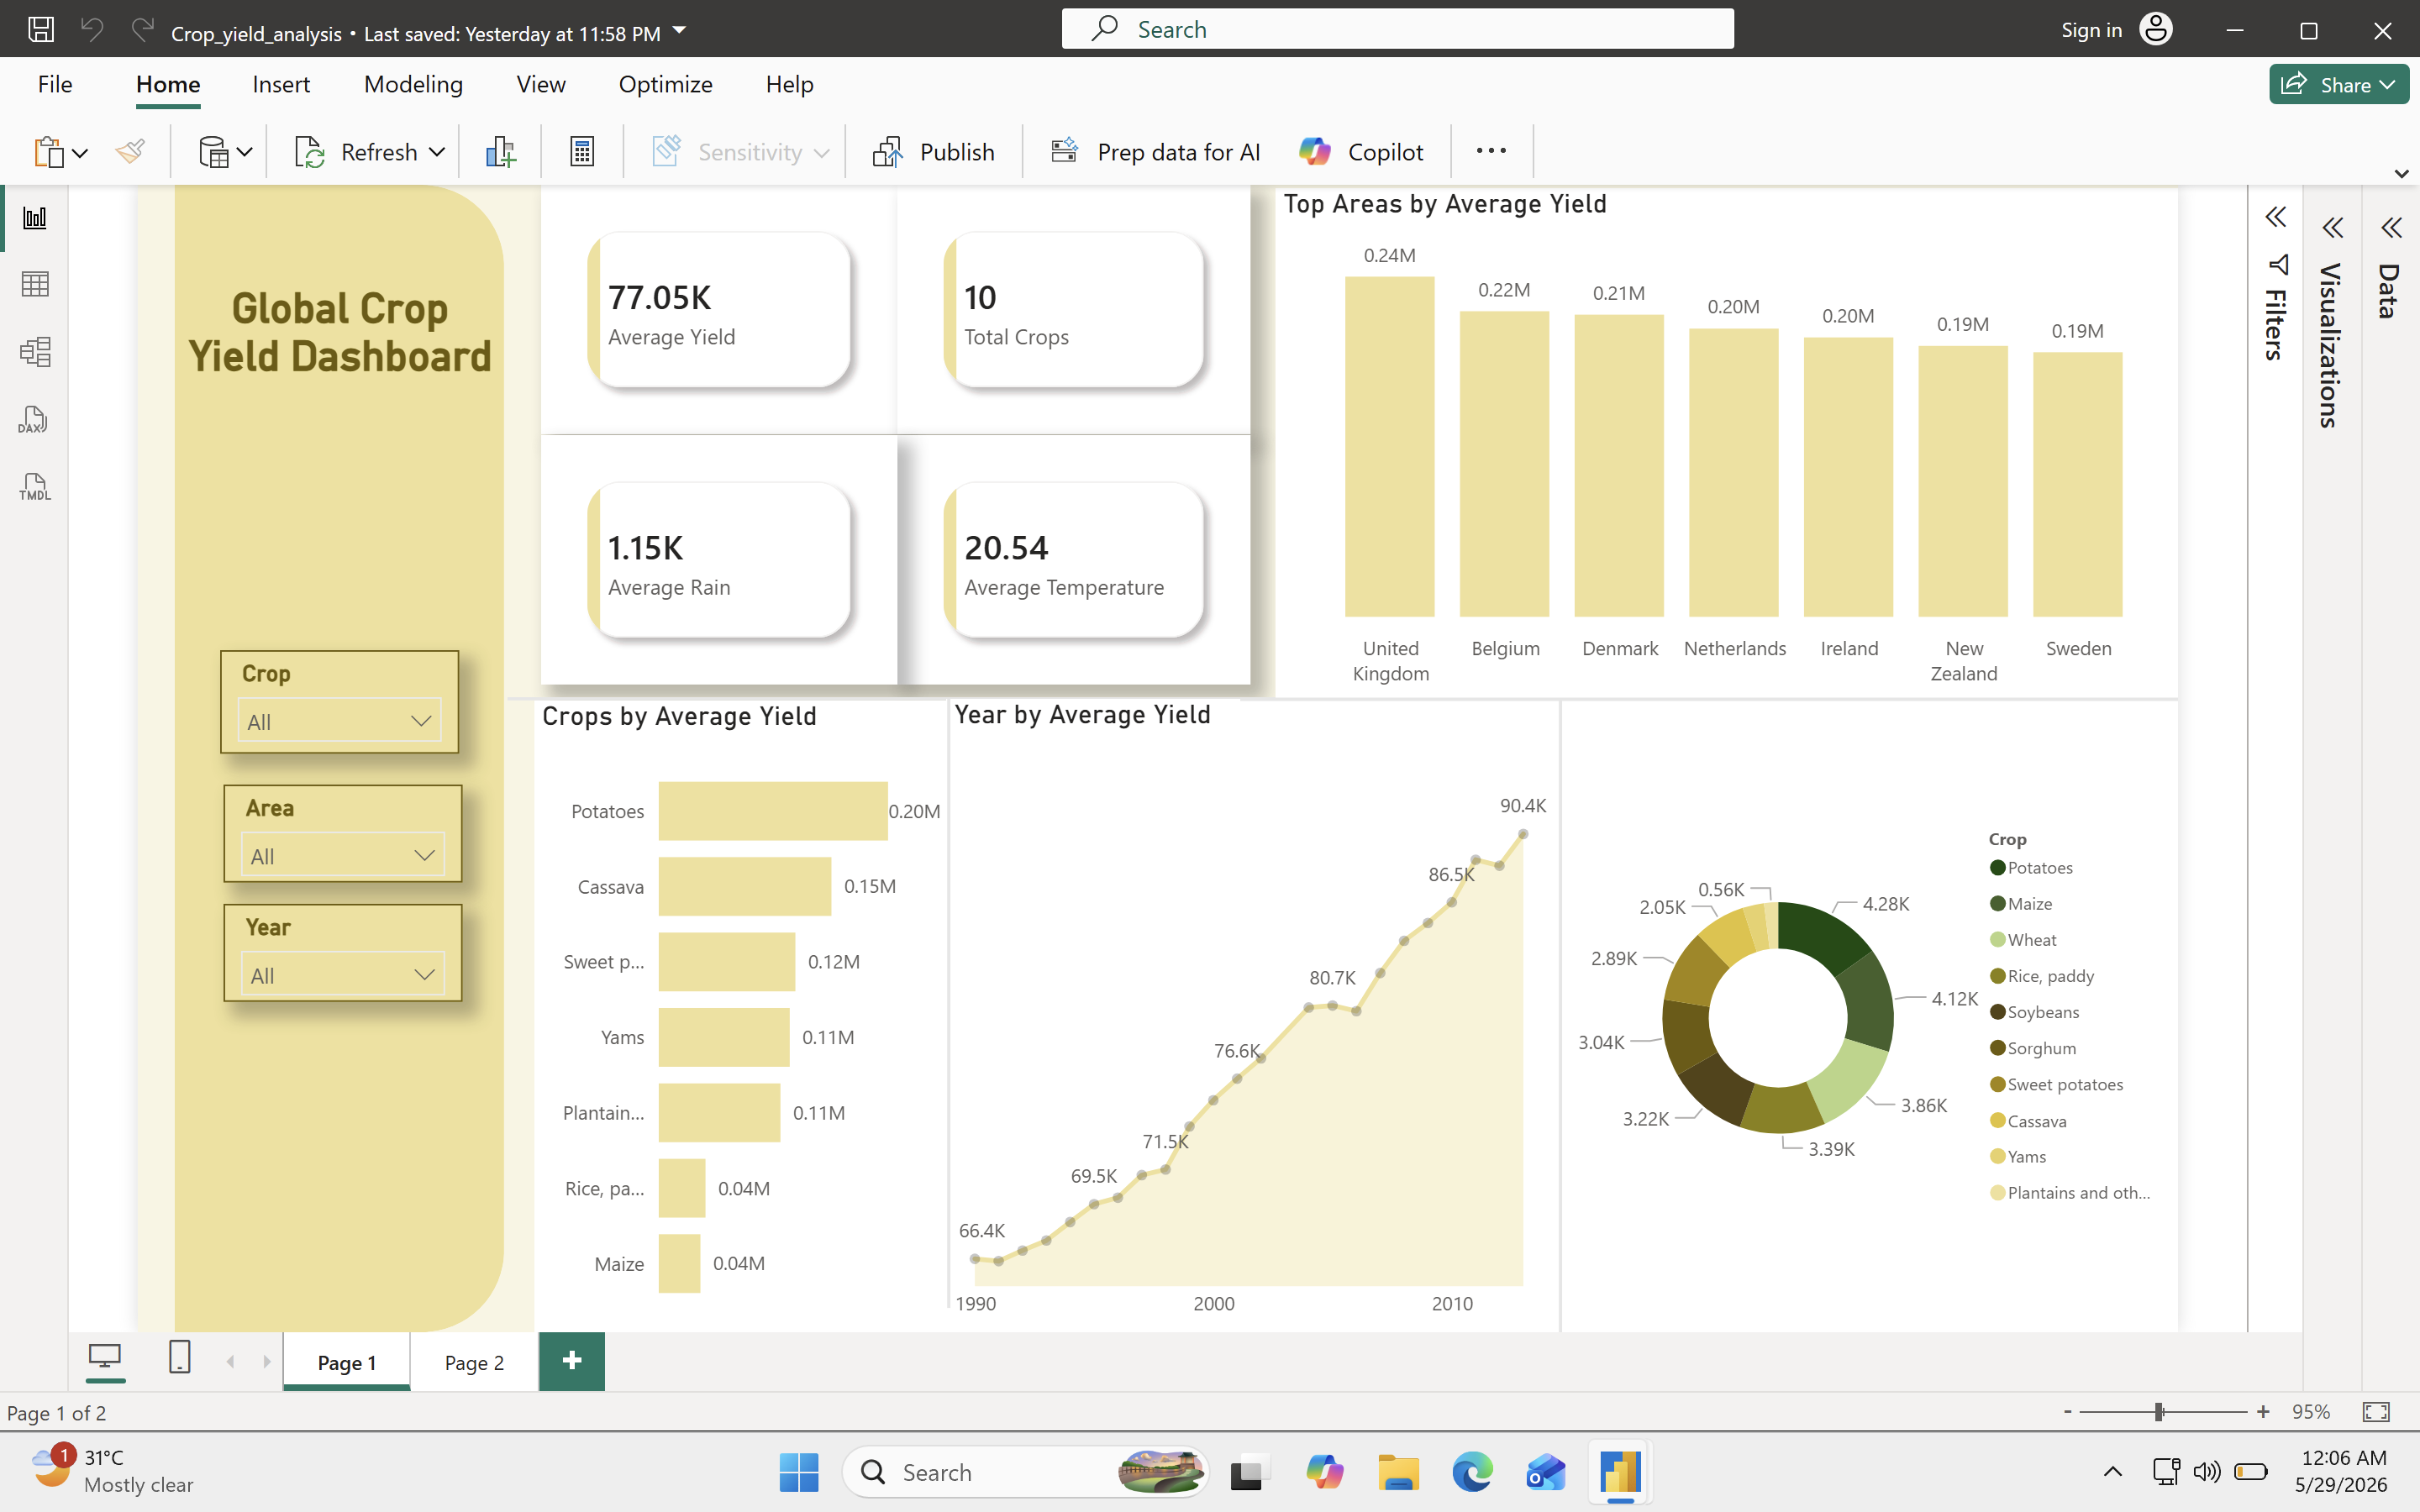

This screenshot's page, from the dashboard's own definition file:
{"tool":"powerbi","page":{"name":"Page 1","canvas":[1280,720],"ordinal":0},"visuals":[{"type":"cardVisual","fields":{"Data":["crop_cleaned.avg_yield"]},"box":[253.3,0,223.3,156.7],"z":0},{"type":"cardVisual","fields":{"Data":["crop_cleaned.TOTAL CROPS"]},"box":[476.7,0,221.7,156.7],"z":1000},{"type":"cardVisual","fields":{"Data":["crop_cleaned.AVG TEMP"]},"box":[476.7,156.7,221.7,156.7],"z":2000},{"type":"cardVisual","fields":{"Data":["crop_cleaned.AVG RAIN"]},"box":[253.3,156.7,223.3,156.7],"z":3000},{"type":"clusteredBarChart","title":"Crops by Average Yield","fields":{"Category":["crop_cleaned.Crop"],"Y":["Avg(crop_cleaned.hg/ha_yield)"]},"box":[248.3,323.3,260,396.7],"z":4000},{"type":"shape","box":[23.3,0,206.7,720],"z":5000},{"type":"textbox","title":"Global Crop Yield Dashboard","box":[22,62,210,108],"z":6000},{"type":"shape","box":[231.4,284.3,552.9,75.7],"z":7000},{"type":"slicer","fields":{"Values":["crop_cleaned.Crop"]},"box":[51.7,291.7,150,65],"z":8000},{"type":"slicer","fields":{"Values":["crop_cleaned.Area"]},"box":[53.3,376.7,150,61.7],"z":9000},{"type":"slicer","fields":{"Values":["crop_cleaned.Year"]},"box":[53.3,451.7,150,61.7],"z":10000},{"type":"columnChart","title":"Top Areas by Average Yield","fields":{"Y":["Avg(crop_cleaned.hg/ha_yield)"],"Category":["crop_cleaned.Area"]},"box":[713.3,1.7,566.7,320],"z":11000},{"type":"lineChart","title":"Year by Average Yield","fields":{"Category":["crop_cleaned.Year"],"Y":["Avg(crop_cleaned.hg/ha_yield)"]},"box":[507.5,322.5,410,397.5],"z":12000},{"type":"donutChart","fields":{"Category":["crop_cleaned.Crop"],"Y":["CountNonNull(crop_cleaned.Crop)"]},"box":[891.7,323.3,388.3,398.3],"z":13000},{"type":"shape","box":[691.7,291.7,588.3,61.7],"z":14000},{"type":"shape","box":[471.7,321.7,75,383.3],"z":15000},{"type":"shape","box":[855,323.3,75,398.3],"z":16000}]}

Visuals, with their boxes on the page's 1280x720 design canvas (x1, y1, x2, y2). These are canvas units, not pixel positions in the 2420x1512 screenshot, which may show the page scaled, cropped or inside an application window:
cardVisual - crop_cleaned.avg_yield: rect(253, 0, 477, 157)
cardVisual - crop_cleaned.TOTAL CROPS: rect(477, 0, 698, 157)
cardVisual - crop_cleaned.AVG TEMP: rect(477, 157, 698, 313)
cardVisual - crop_cleaned.AVG RAIN: rect(253, 157, 477, 313)
"Crops by Average Yield" clusteredBarChart: rect(248, 323, 508, 720)
shape: rect(23, 0, 230, 720)
"Global Crop Yield Dashboard" textbox: rect(22, 62, 232, 170)
shape: rect(231, 284, 784, 360)
slicer - crop_cleaned.Crop: rect(52, 292, 202, 357)
slicer - crop_cleaned.Area: rect(53, 377, 203, 438)
slicer - crop_cleaned.Year: rect(53, 452, 203, 513)
"Top Areas by Average Yield" columnChart: rect(713, 2, 1280, 322)
"Year by Average Yield" lineChart: rect(508, 322, 918, 720)
donutChart - crop_cleaned.Crop x CountNonNull(crop_cleaned.Crop): rect(892, 323, 1280, 722)
shape: rect(692, 292, 1280, 353)
shape: rect(472, 322, 547, 705)
shape: rect(855, 323, 930, 722)
